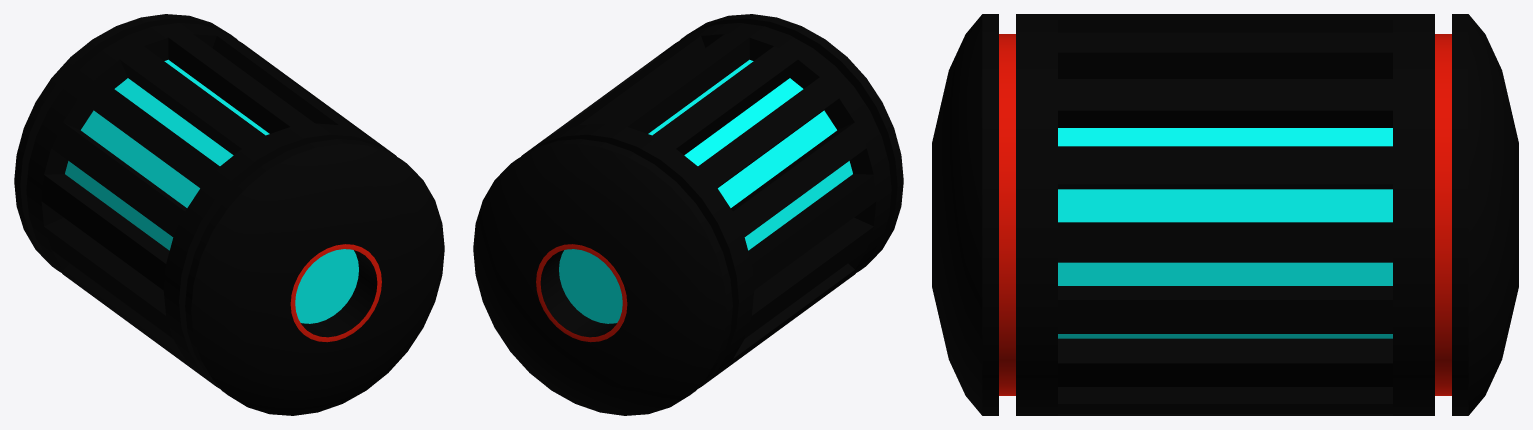
Rendered from Laserbomb.fbx.
The picture shows the model from 3 angles, left to right: view 1: azimuth 30°, elevation 25°; view 2: azimuth 150°, elevation 25°; view 3: azimuth 270°, elevation 25°; orthographic projection. The views are drawn at different scales.
Visible parts, largest first — view 1: Laserbomb; view 2: Laserbomb; view 3: Laserbomb.
Boxes of the visible parts, bbox=[...] form: Laserbomb: bbox=[14, 14, 444, 415]; Laserbomb: bbox=[473, 14, 903, 415]; Laserbomb: bbox=[932, 14, 1518, 415].
Size of the model in its own units: 240 by 240 by 350.
